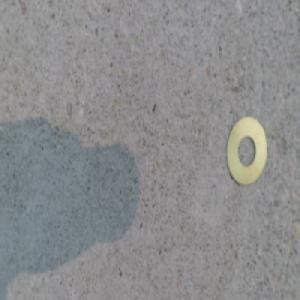Washer: (223, 115, 266, 188)
